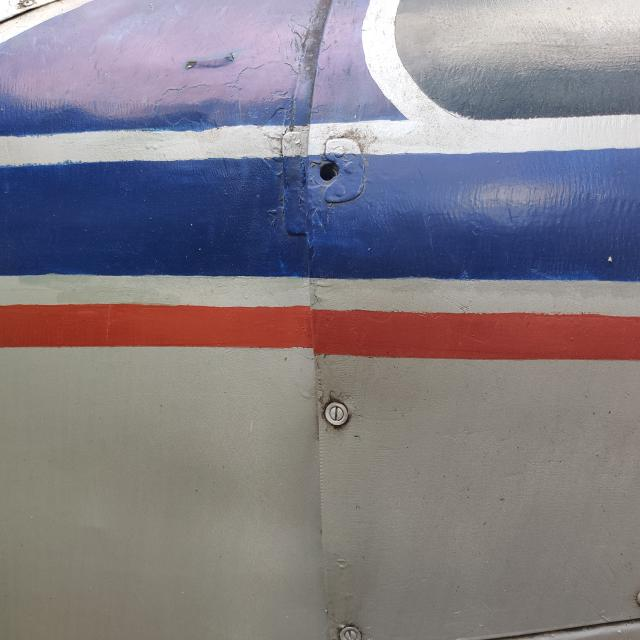missing-head: (303, 143, 367, 207)
paint-off: (166, 30, 252, 94)
